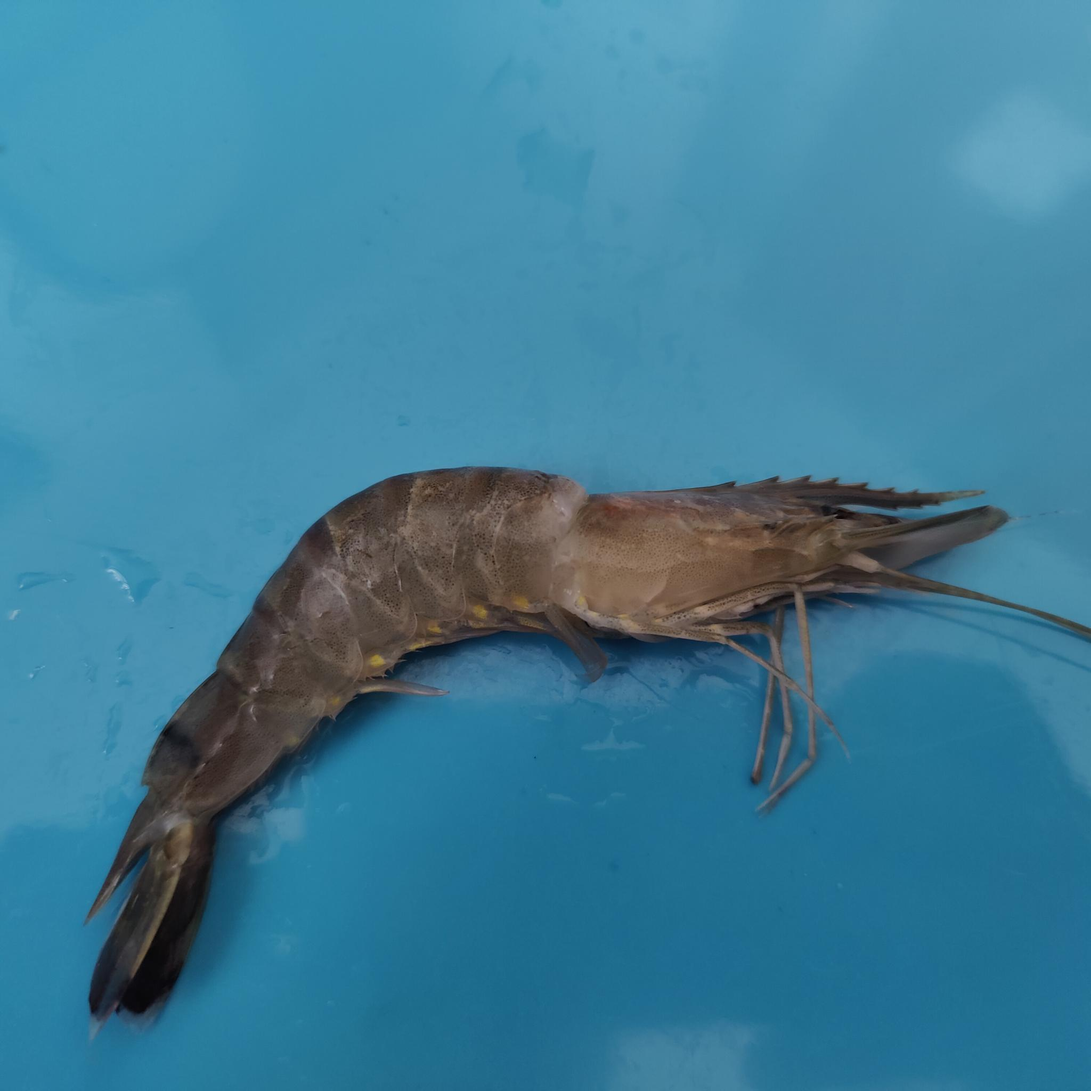whitespot: (405, 504, 490, 576), (599, 518, 690, 559)
